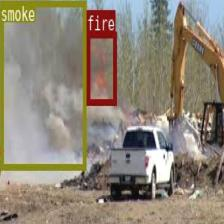fire: (86, 31, 116, 104)
smoke: (0, 0, 85, 168)
